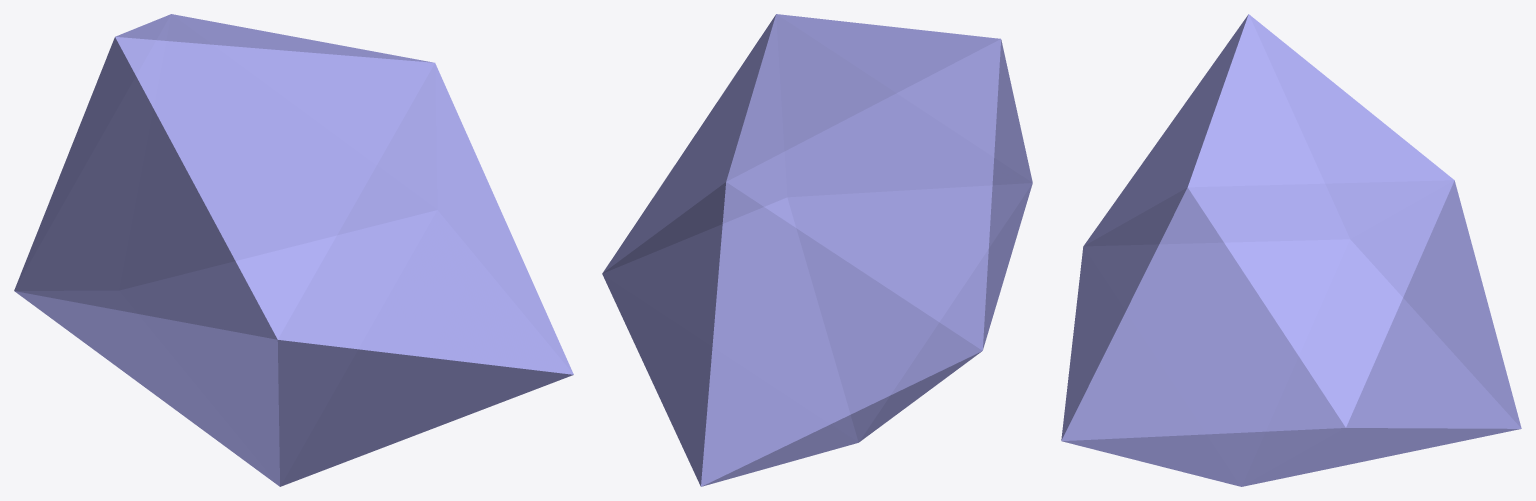
Rendered from j51_triaugmented_triangular_prism.obj.
3 renders of one model, left to right at view 1: azimuth 30°, elevation 25°; view 2: azimuth 150°, elevation 25°; view 3: azimuth 270°, elevation 25°, orthographic. The views are drawn at different scales.
Bounding box in the file's own units: 1.67 × 1.84 × 1.88.
